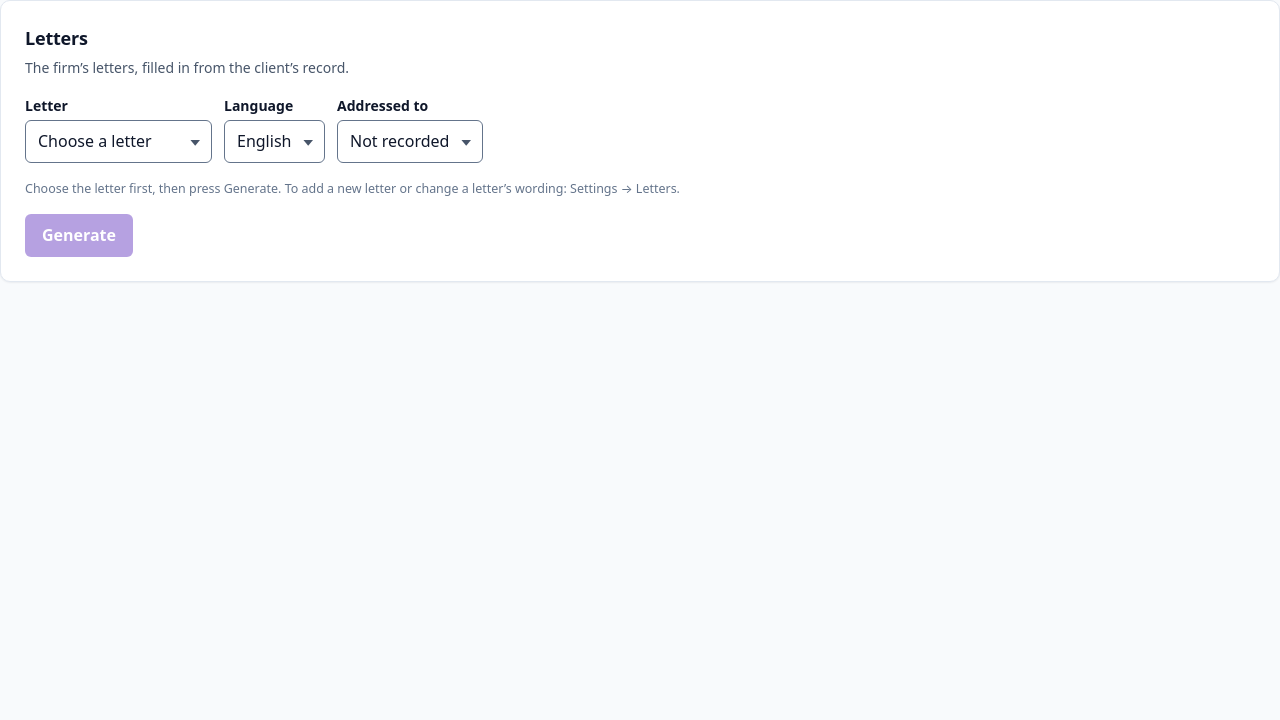
the firm’s letters (FR-15) › says what the client record could not supply
Select "Engagement letter" in the dropdown labelled "Letter": {"x": 118, "y": 142} [25,120,212,163]
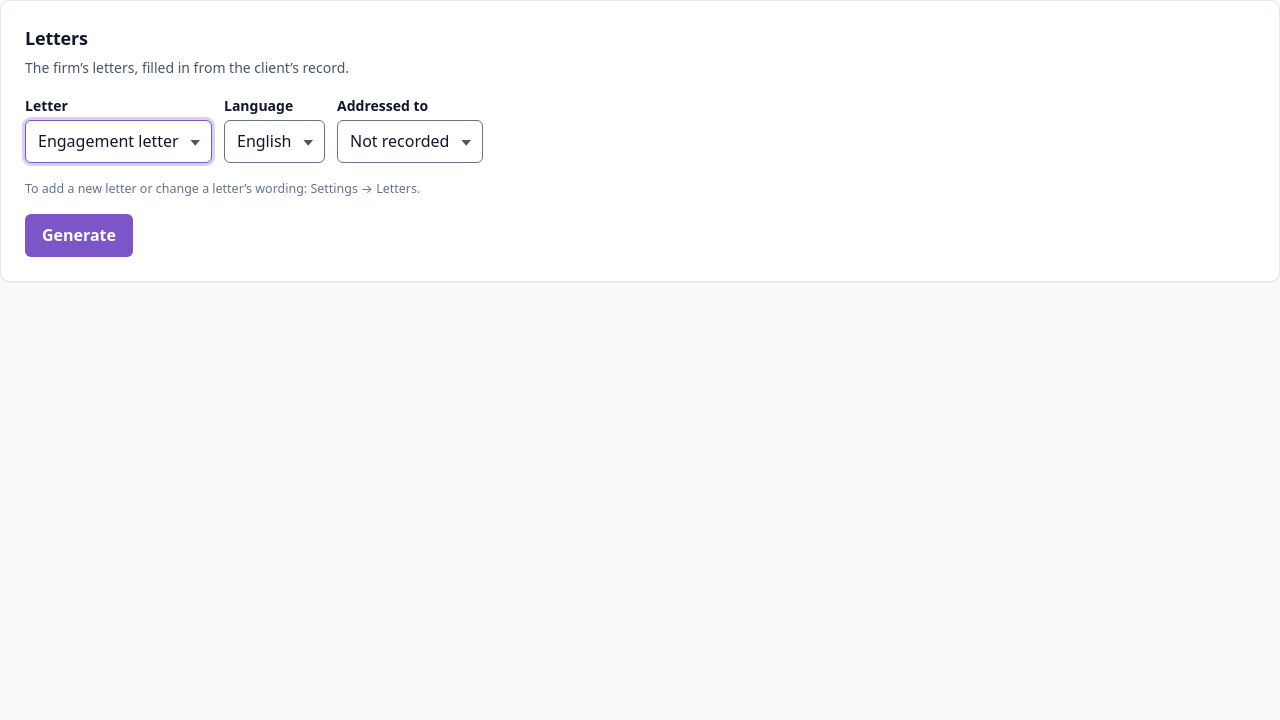
Select "English" in the dropdown labelled "Language": {"x": 274, "y": 142} [224,120,325,163]
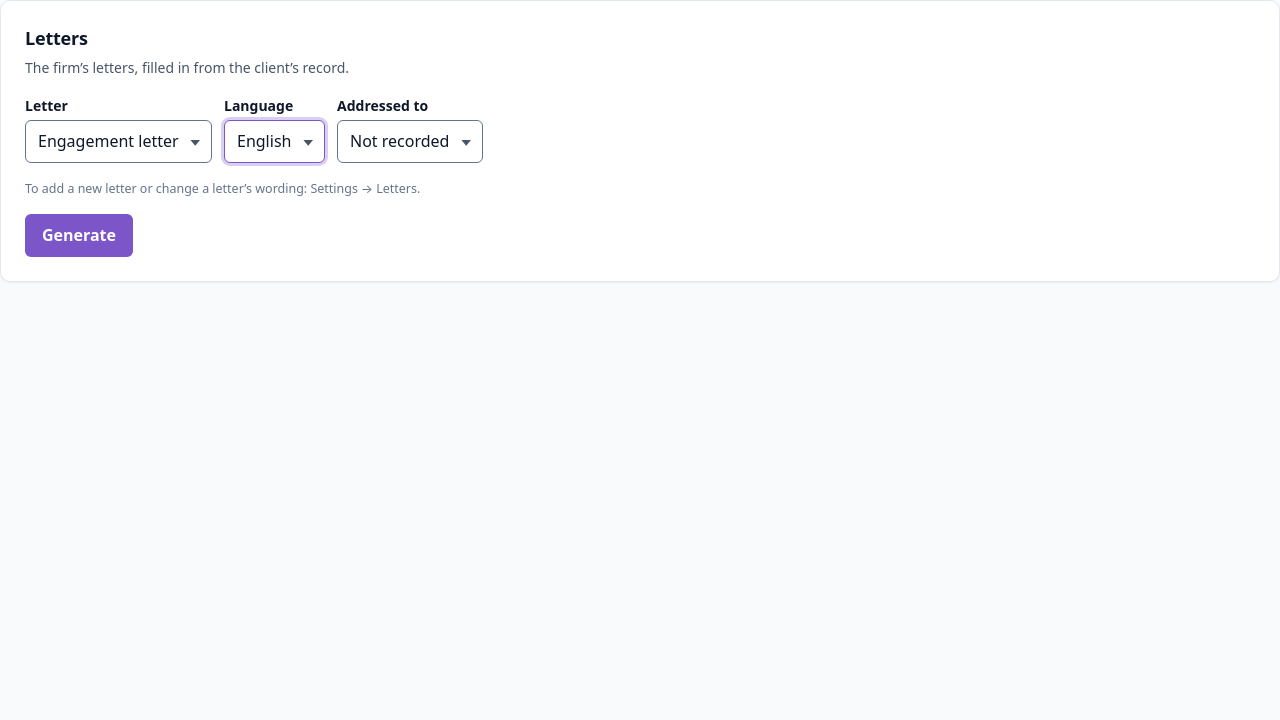
Click the button "Generate": {"x": 79, "y": 236} [25,214,133,257]
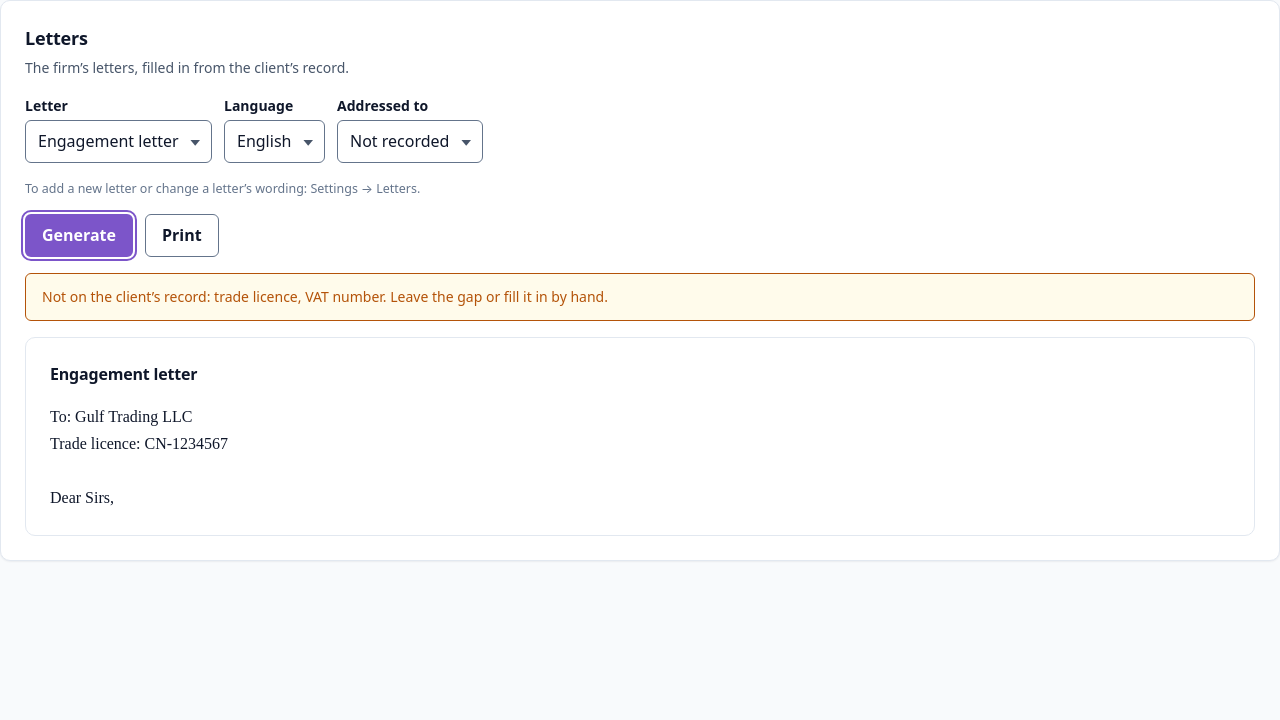
Check: the text "Not on the client.s record: trade licence, VAT number" is shown, box [42,287,608,306]
Check: the text "To: Gulf Trading LLC Trade licence: CN-1234567 Dear Sirs," is shown, box [50,408,228,506]
